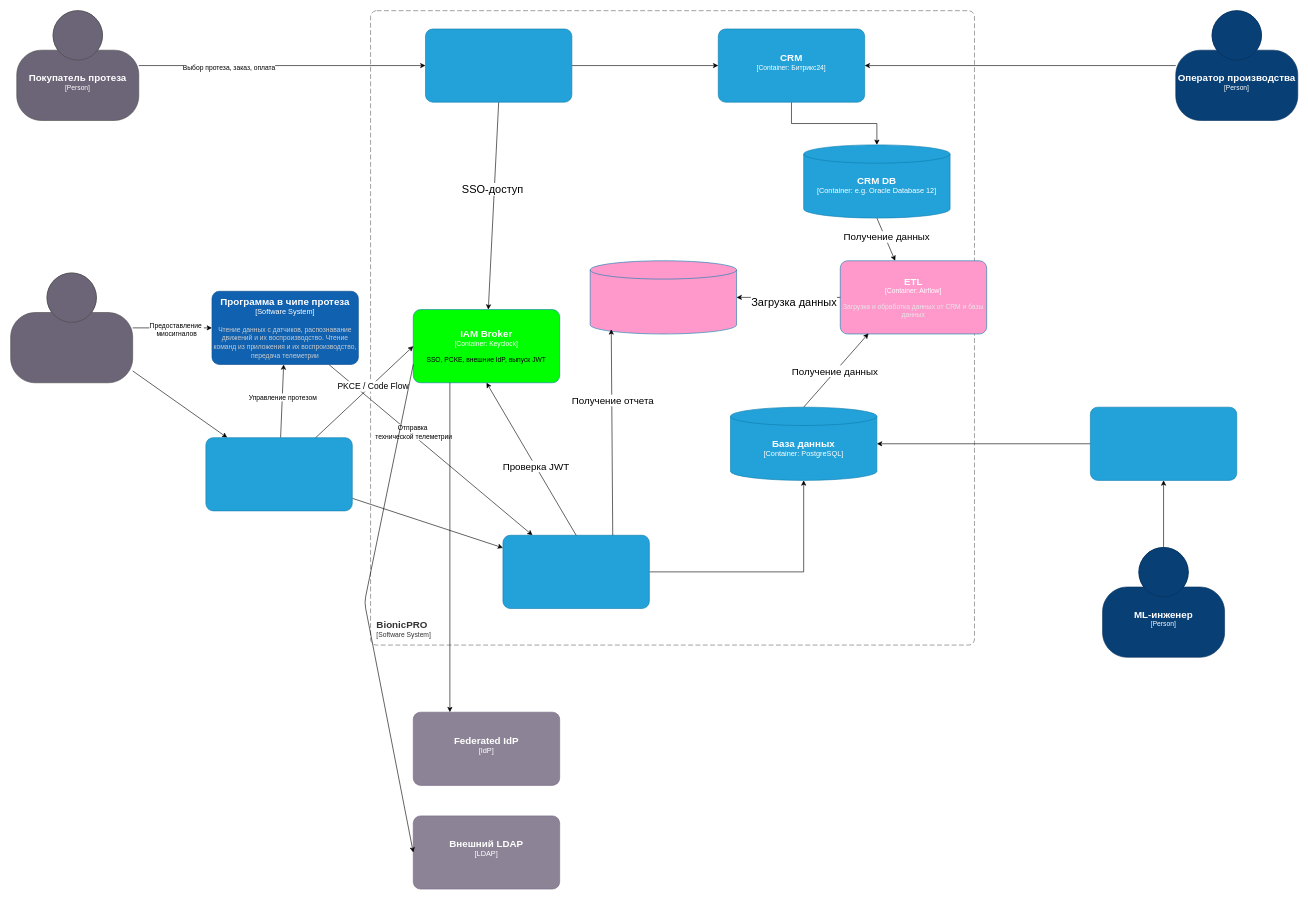
This 1308x900 diagram has some shape labels left out. The shapes that lost their labels are listed below. From the top down, each one's centre as x and y in pixels, then its label:
At pixel 498 65: "Интернет-магазин [Container: Битрикс24]".
At pixel 663 297: "Хранилище данных [Container: ClickHouse]".
At pixel 71 327: "Пилот протеза [Person] С этого человека считываются данные".
At pixel 1163 443: "cli tool [Container: e.g. SpringBoot, ElasticSearch, etc.]".
At pixel 278 474: "Приложение для донастройки протеза [Container: iOD, Android]".
At pixel 575 571: "API [Container: e.g. SpringBoot, ElasticSearch, etc.]".
